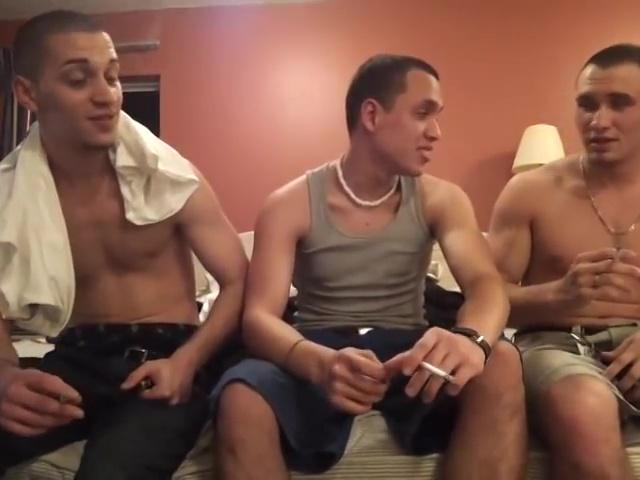cigarette: (419, 360, 461, 384), (612, 244, 624, 265)
